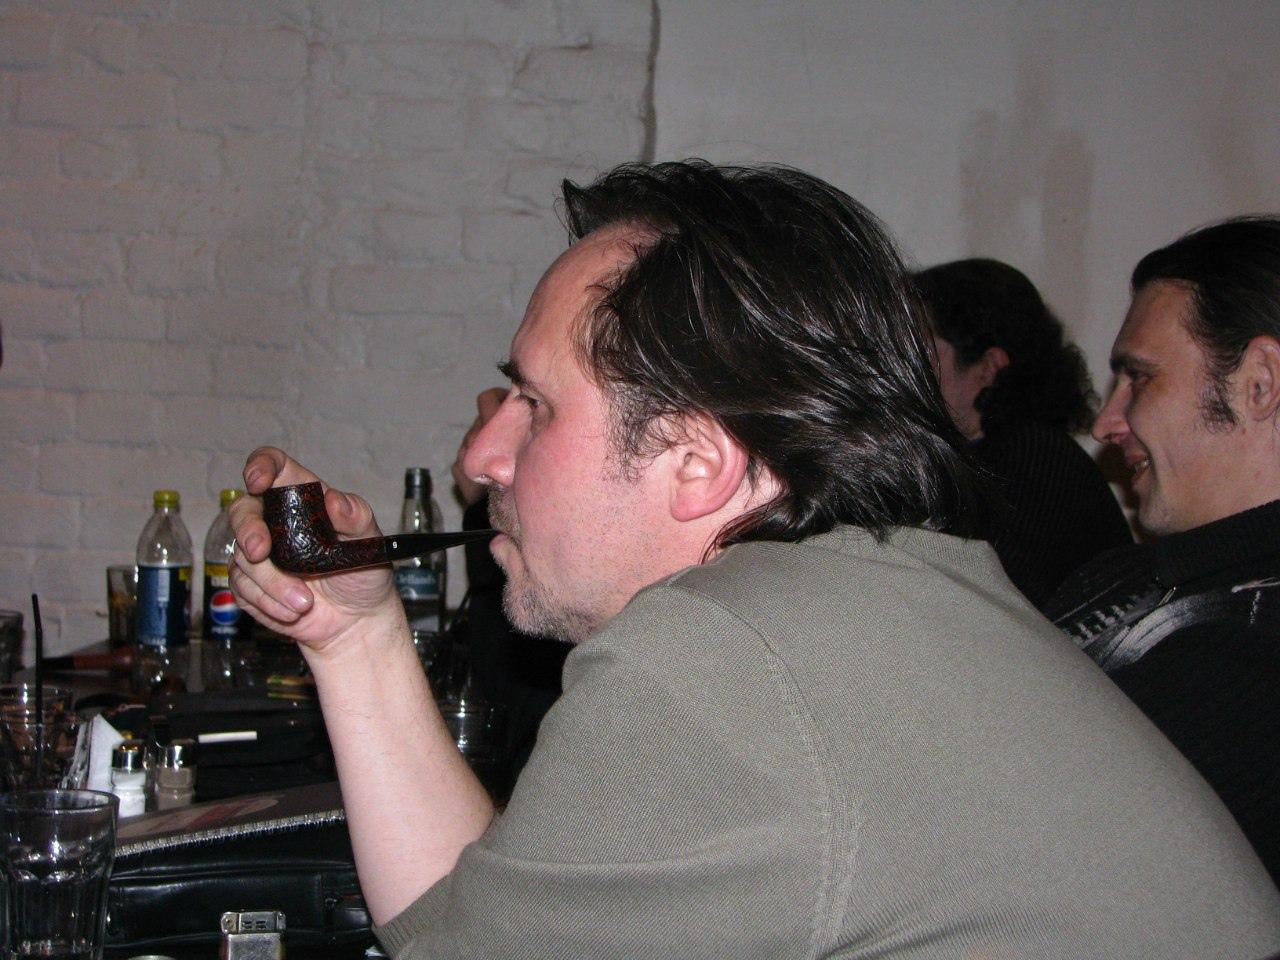trubka: (255, 482, 498, 579)
